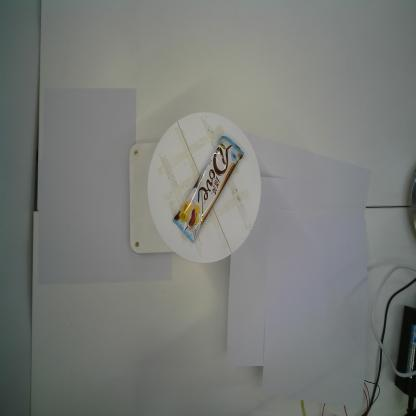Chocolate: (172, 134, 245, 245)
